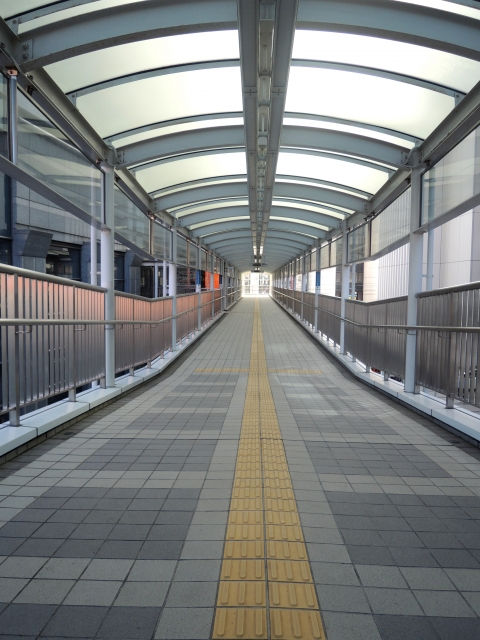line: (214, 605, 265, 640), (266, 606, 318, 640), (267, 581, 316, 608), (217, 581, 266, 606), (267, 560, 313, 584), (221, 558, 268, 581), (223, 538, 265, 560), (265, 540, 308, 561), (262, 524, 305, 540), (225, 523, 265, 539), (229, 511, 264, 526), (265, 510, 299, 524), (264, 498, 296, 511), (231, 497, 263, 509)
